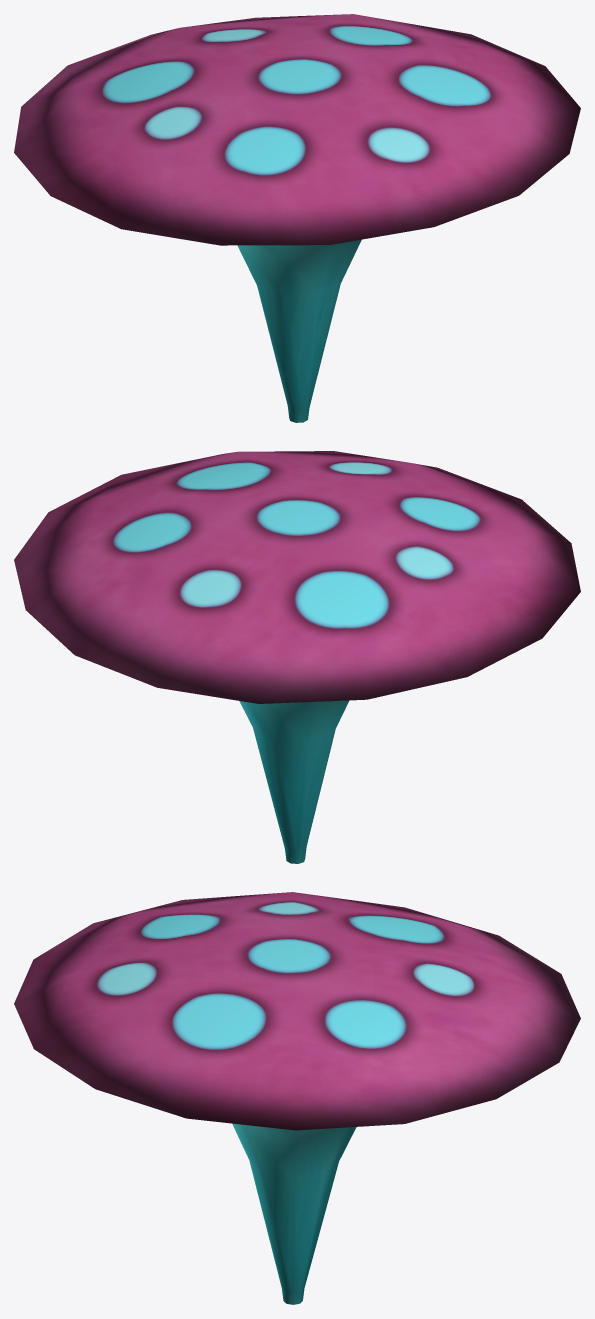
File: Mushroom_Straight1_Pink.fbx
3 views of the same model, one above another, from view 1: azimuth 30°, elevation 25°; view 2: azimuth 150°, elevation 25°; view 3: azimuth 270°, elevation 25° (orthographic).
Visible parts, largest first — view 1: Mesh; view 2: Mesh; view 3: Mesh.
Part boxes in pixels (bbox=[...]): Mesh: bbox=[14, 14, 580, 422]; Mesh: bbox=[14, 451, 580, 863]; Mesh: bbox=[14, 892, 580, 1304].
Size of the model in its own units: 92.38 by 61.81 by 91.2.
